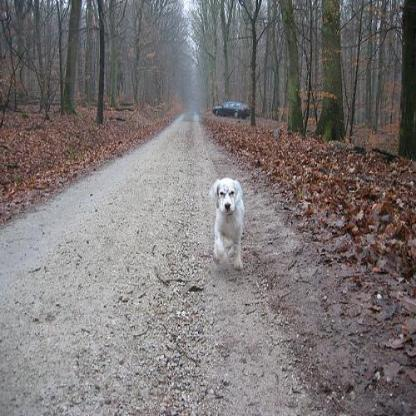English_setter: (210, 174, 244, 274)
